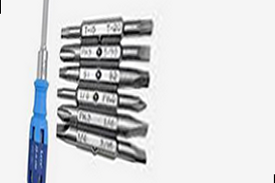Screwdriver: (25, 1, 54, 183)
